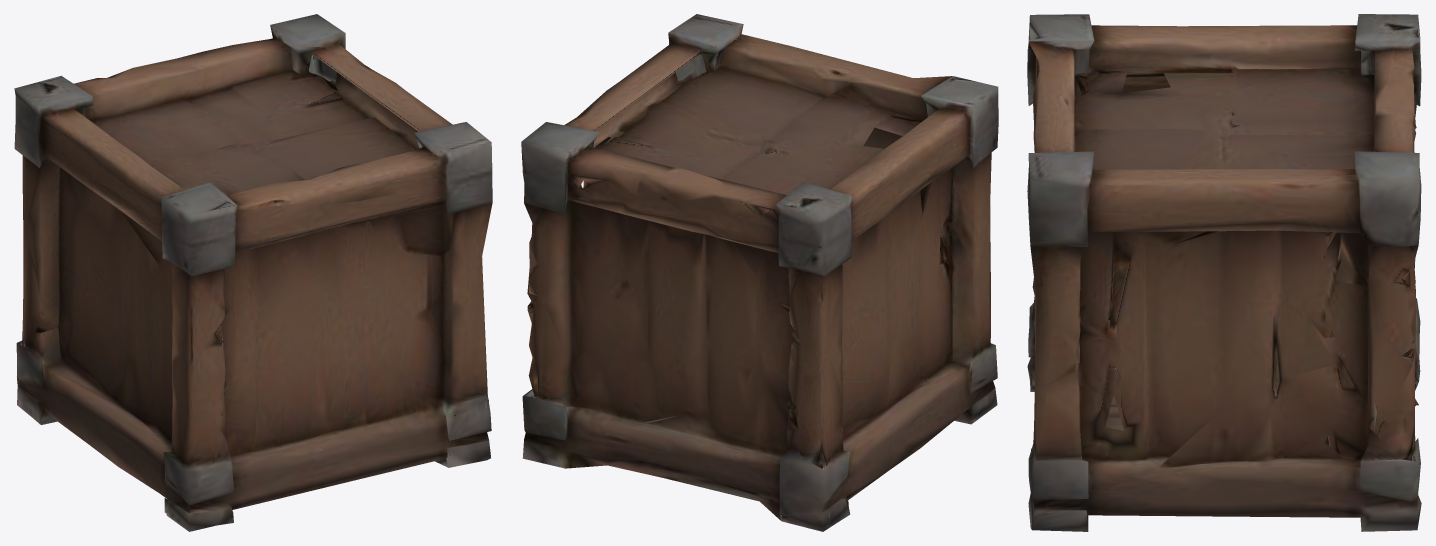
The model's file is prop_crate-tX6RlGPG.glb.
3 renders of one model, left to right at view 1: azimuth 30°, elevation 25°; view 2: azimuth 150°, elevation 25°; view 3: azimuth 270°, elevation 25°, orthographic. The views are drawn at different scales.
Parts seen in each view (by area): view 1: tripo_node_d537f948-a43f-4d75-bfd9-0ae89fa0a8ad; view 2: tripo_node_d537f948-a43f-4d75-bfd9-0ae89fa0a8ad; view 3: tripo_node_d537f948-a43f-4d75-bfd9-0ae89fa0a8ad.
Boxes of the visible parts, x1,y1,x2,y2 form: tripo_node_d537f948-a43f-4d75-bfd9-0ae89fa0a8ad: (14, 14, 492, 531); tripo_node_d537f948-a43f-4d75-bfd9-0ae89fa0a8ad: (521, 14, 998, 531); tripo_node_d537f948-a43f-4d75-bfd9-0ae89fa0a8ad: (1027, 14, 1421, 531).
Size of the model in its own units: 0.9971 by 0.9867 by 0.9875.
Materials: 1 (1 with a texture image).
